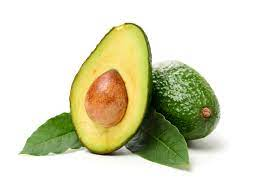avocado: (69, 23, 151, 155)
